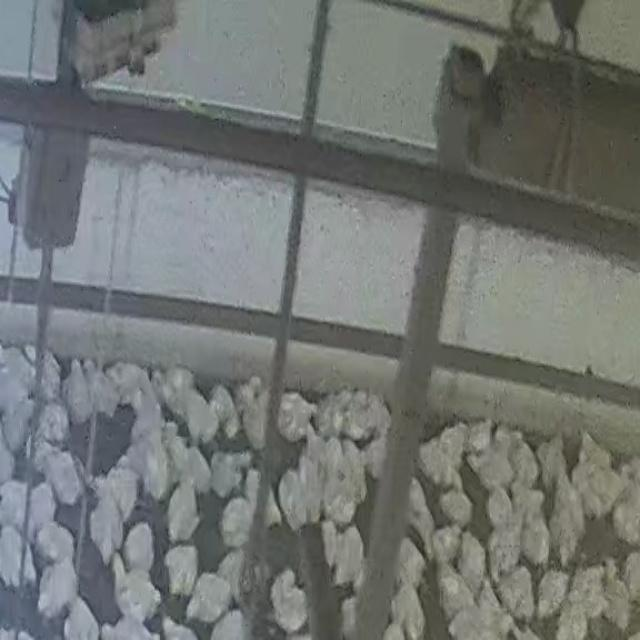chicken: (110, 556, 165, 618), (186, 570, 235, 626), (35, 557, 81, 615), (99, 461, 142, 522), (167, 477, 204, 544), (518, 506, 554, 572), (42, 448, 84, 504), (172, 438, 213, 492), (456, 530, 491, 593), (388, 580, 426, 638), (91, 495, 124, 561), (34, 519, 77, 569), (62, 358, 94, 423), (436, 568, 476, 620), (418, 435, 458, 487), (142, 431, 172, 499), (535, 566, 571, 622), (162, 543, 200, 596), (486, 523, 521, 578), (407, 477, 436, 542), (26, 481, 59, 538), (332, 524, 362, 585), (216, 548, 250, 601), (396, 534, 428, 590), (219, 500, 255, 548), (482, 483, 515, 535), (209, 450, 243, 499), (509, 479, 547, 522), (437, 484, 472, 526), (214, 384, 237, 437), (126, 522, 150, 569)
